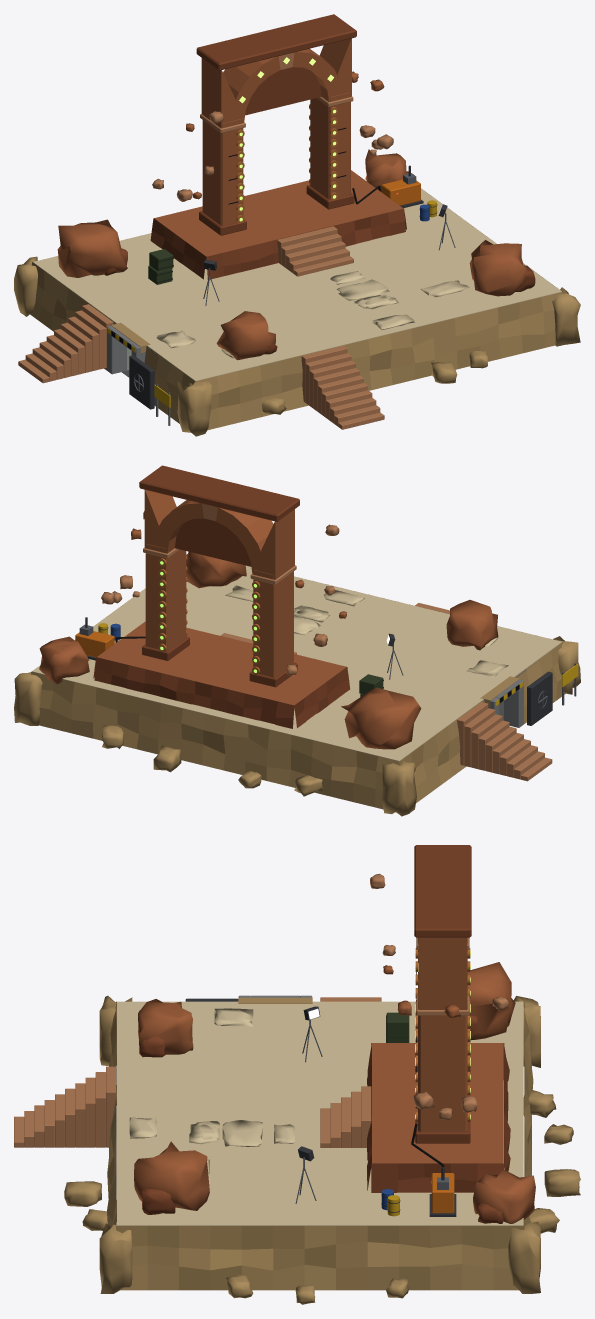
The model's file is tf-portal-p2.glb.
3 renders of one model, top to bottom at view 1: azimuth 30°, elevation 25°; view 2: azimuth 150°, elevation 25°; view 3: azimuth 270°, elevation 25°, orthographic. The views are drawn at different scales.
Visible parts, largest first — view 1: tf-portal-p2; view 2: tf-portal-p2; view 3: tf-portal-p2.
Part boxes in pixels (left/top/right/bottom): tf-portal-p2: left=14, top=14, right=580, bottom=436; tf-portal-p2: left=14, top=465, right=580, bottom=816; tf-portal-p2: left=14, top=845, right=580, bottom=1304.
Bounding box in the file's own units: 33.56 × 16.5 × 27.76.
